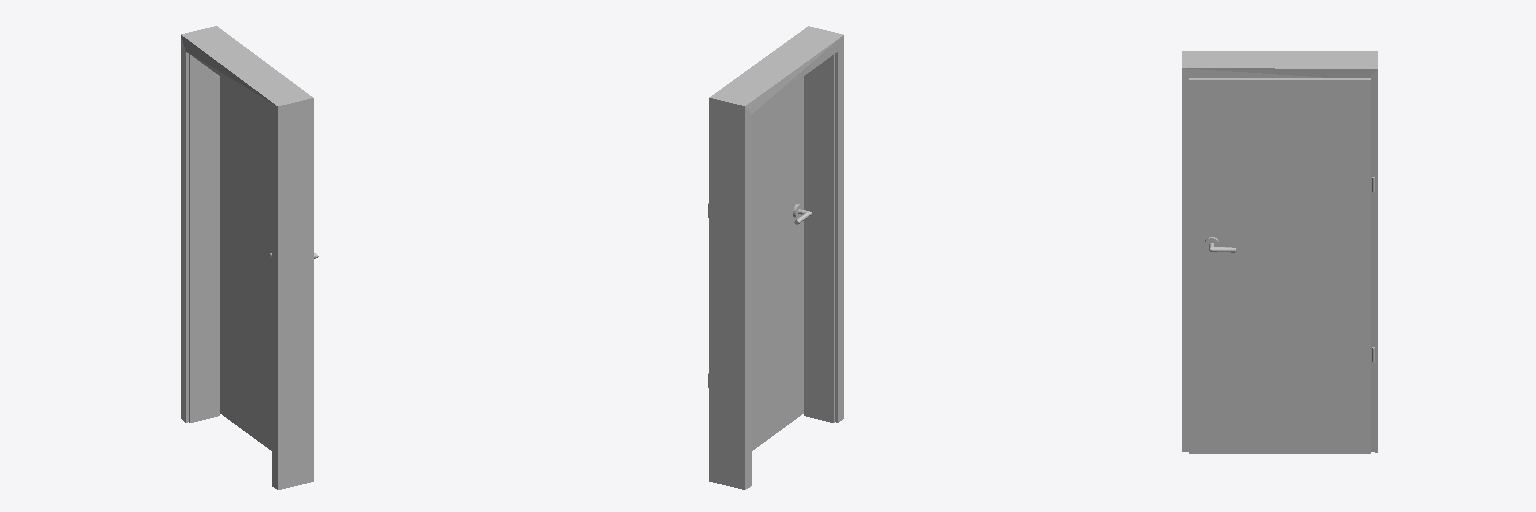
Rendered from door110.obj.
The picture shows the model from 3 angles: view 1: azimuth 30°, elevation 25°; view 2: azimuth 150°, elevation 25°; view 3: azimuth 270°, elevation 25°; orthographic projection.
Visible parts, largest first — view 1: Cylinder.005, Cylinder.001; view 2: Cylinder.005, Cylinder.001; view 3: Cylinder.001, Cylinder.005.
Boxes of the visible parts, x1,y1,x2,y2 form: Cylinder.005: [181, 26, 313, 489]; Cylinder.001: [220, 77, 271, 450]; Cylinder.005: [708, 26, 843, 489]; Cylinder.001: [708, 77, 803, 450]; Cylinder.001: [1189, 78, 1374, 453]; Cylinder.005: [1182, 51, 1377, 452].
Bounding box in the file's own units: 0.3039 × 2.05 × 0.95.